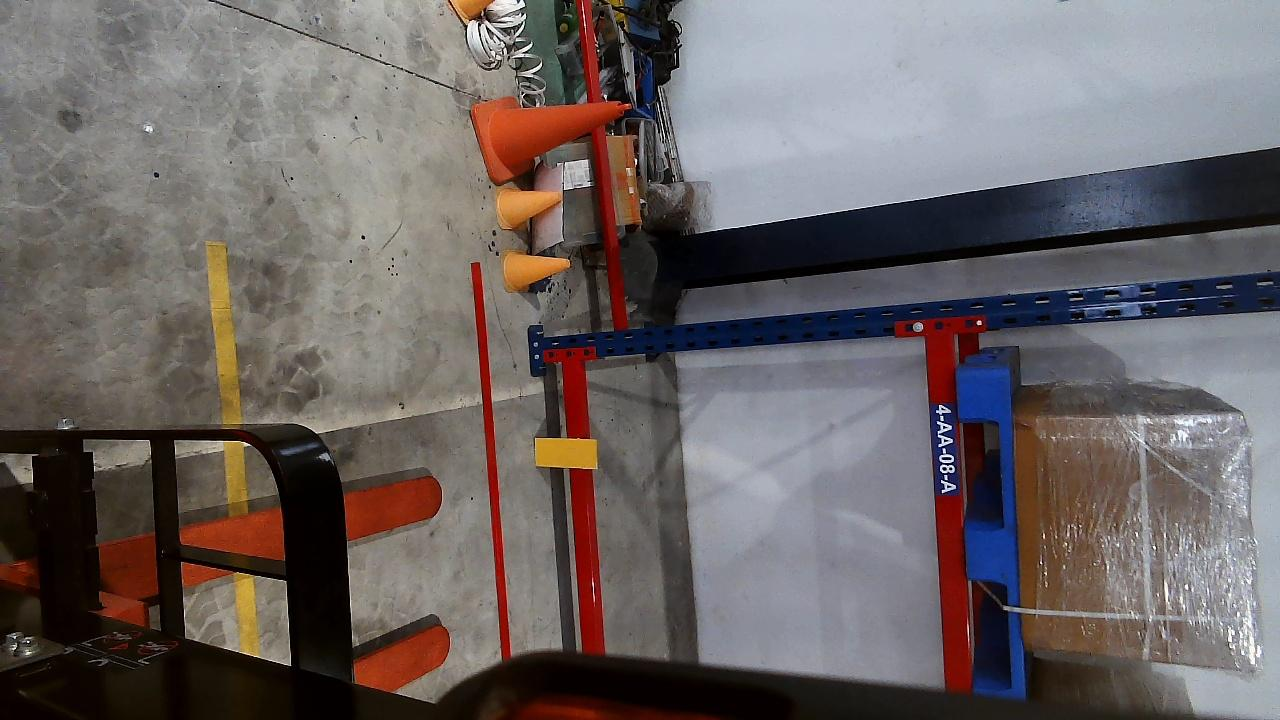h_rack: (922, 333, 972, 690), (563, 363, 604, 653)
orange_strip: (533, 437, 598, 469)
red_line: (470, 261, 510, 659)
small_pallet: (966, 363, 1014, 698)
yellow_line: (203, 242, 250, 513)
